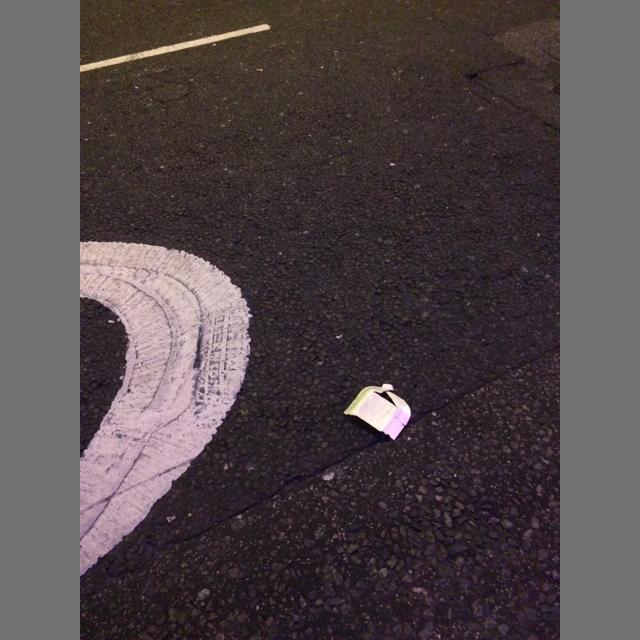litter: (344, 384, 411, 441)
